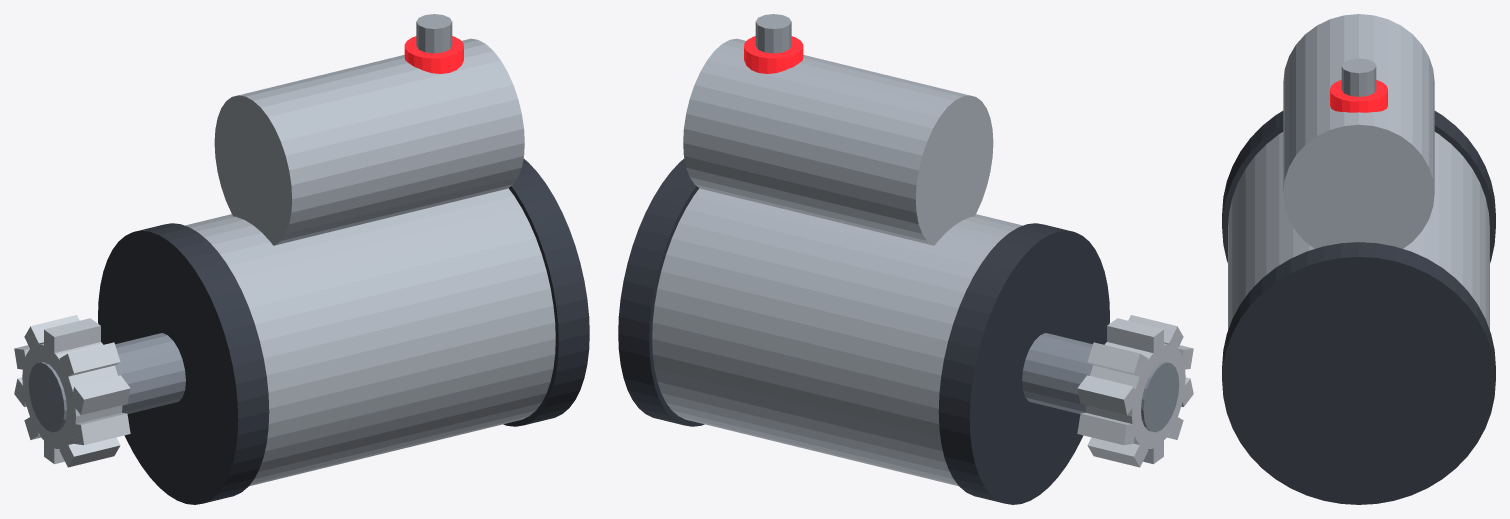
Rendered from motor_arranque.glb.
3 renders of one model, left to right at view 1: azimuth 30°, elevation 25°; view 2: azimuth 150°, elevation 25°; view 3: azimuth 270°, elevation 25°, orthographic. The views are drawn at different scales.
Parts seen in each view (by area): view 1: Cylinder, Cylinder.003, Cylinder.002, Cylinder.001, Cylinder.006, Cylinder.007, Cube.008, Cube, Cylinder.005, Cylinder.004, Cube.009, Cube.007 (+2 smaller); view 2: Cylinder, Cylinder.003, Cylinder.002, Cylinder.001, Cylinder.006, Cylinder.007, Cube.002, Cube, Cylinder.005, Cylinder.004, Cube.001, Cube.003 (+1 smaller); view 3: Cylinder.001, Cylinder.003, Cylinder, Cylinder.002, Cylinder.005, Cylinder.004.
Part boxes in pixels (x1,y1,x2,y2): Cylinder: [185, 188, 555, 486]; Cylinder.003: [214, 38, 524, 245]; Cylinder.002: [98, 223, 269, 504]; Cylinder.001: [503, 159, 589, 426]; Cylinder.006: [28, 333, 185, 432]; Cylinder.007: [22, 342, 122, 448]; Cube.008: [71, 375, 130, 415]; Cube: [44, 318, 100, 355]; Cylinder.005: [404, 36, 463, 73]; Cylinder.004: [416, 14, 452, 53]; Cube.009: [59, 342, 120, 377]; Cube.007: [71, 413, 130, 445]; Cylinder: [652, 188, 1022, 486]; Cylinder.003: [683, 38, 993, 245]; Cylinder.002: [938, 223, 1109, 504]; Cylinder.001: [618, 159, 704, 426]; Cylinder.006: [1022, 333, 1179, 432]; Cylinder.007: [1085, 342, 1185, 448]; Cube.002: [1077, 375, 1136, 415]; Cube: [1107, 318, 1163, 353]; Cylinder.005: [744, 36, 803, 73]; Cylinder.004: [755, 14, 791, 53]; Cube.001: [1087, 342, 1148, 377]; Cube.003: [1077, 413, 1136, 445]; Cylinder.001: [1222, 242, 1495, 504]; Cylinder.003: [1283, 14, 1434, 248]; Cylinder: [1228, 132, 1489, 329]; Cylinder.002: [1222, 111, 1495, 262]; Cylinder.005: [1330, 80, 1387, 112]; Cylinder.004: [1341, 58, 1376, 96].
Bounding box in the file's own units: 1.83 × 1.51 × 0.94.
